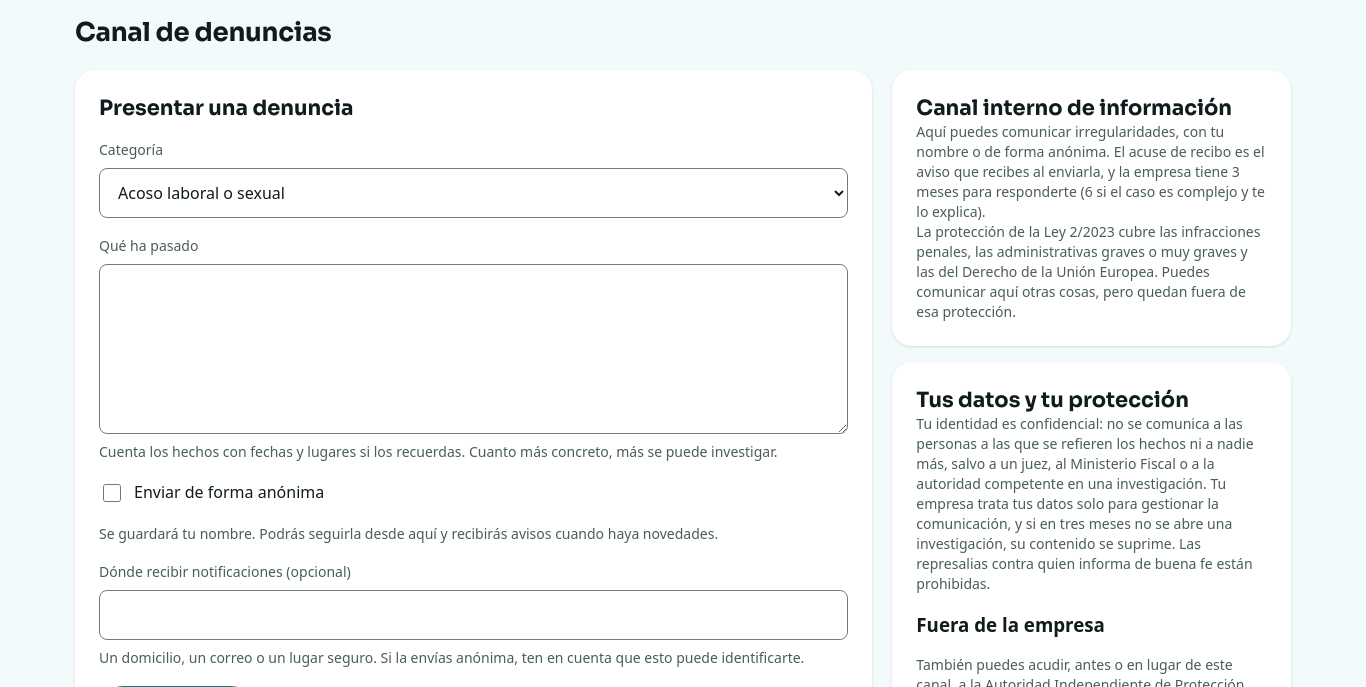
Test case: canal de denuncias › marcar «anónima» cambia lo que se explica antes de enviar
Expected: the text "Se guardará tu nombre. Podrás seguirla desde aquí y recibirás avisos cuando haya novedades." is shown, [99,524,718,543]
Step 1. Click the checkbox labelled "Enviar de forma anónima" → {"x": 112, "y": 493}, box [103,484,121,502]
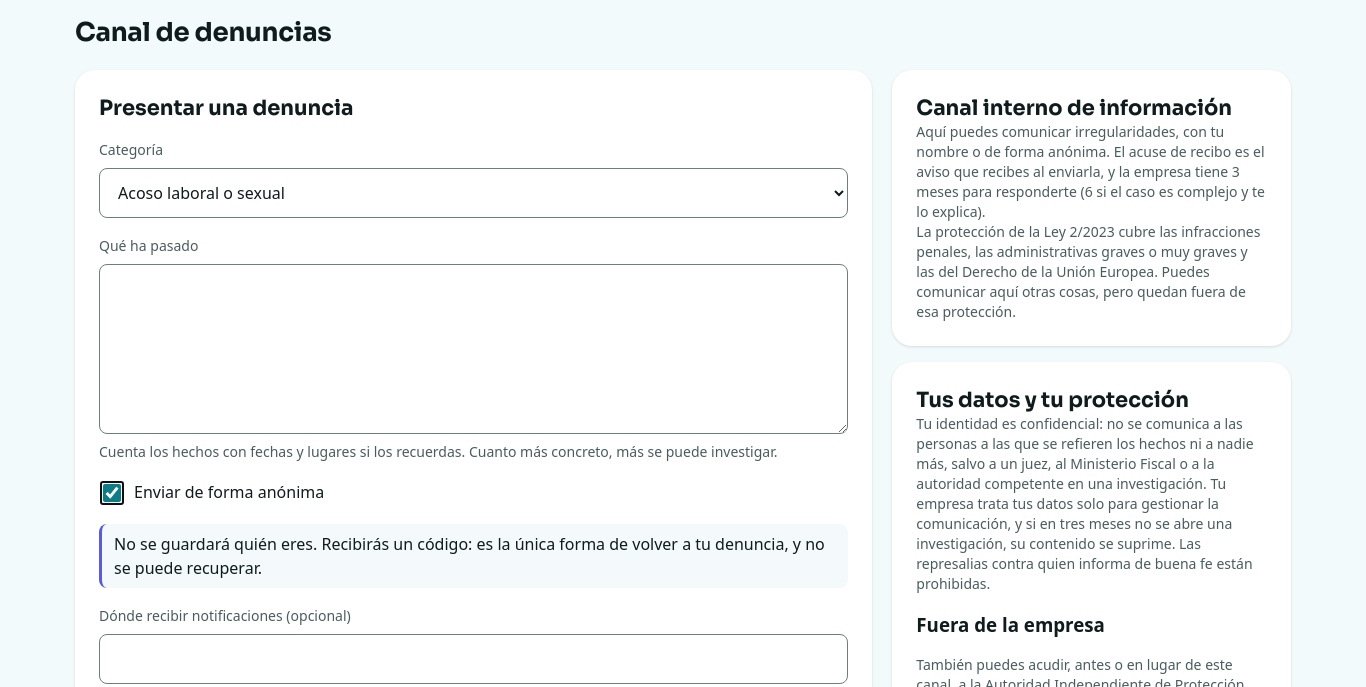
Now the text "No se guardará quién eres. Recibirás un código: es la única forma de volver a tu denuncia, y no se puede recuperar." is shown, box [114,533,825,579]
